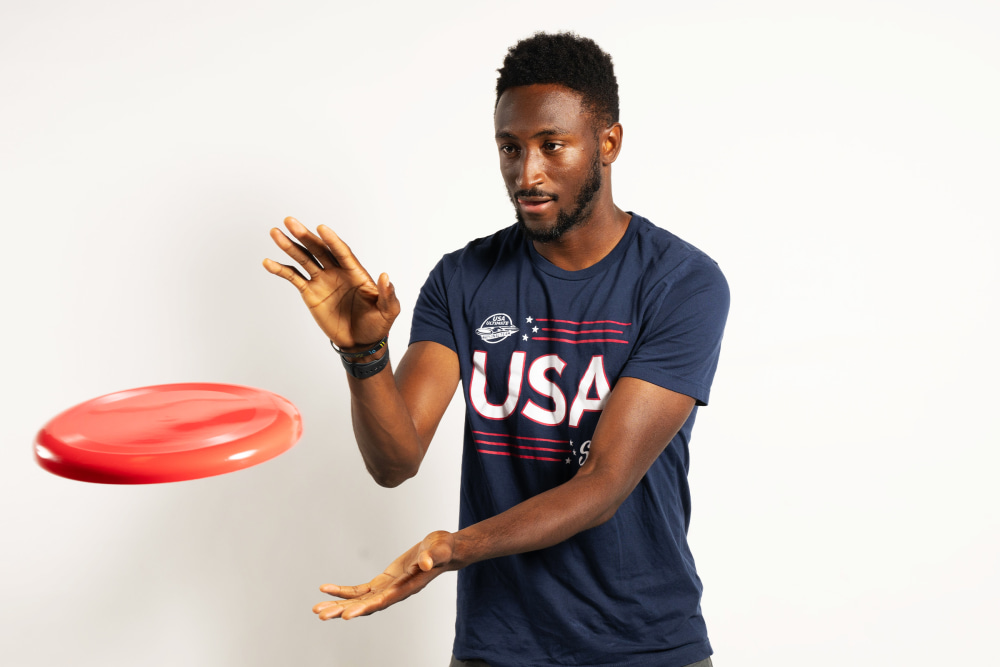disc: (26, 384, 303, 490)
